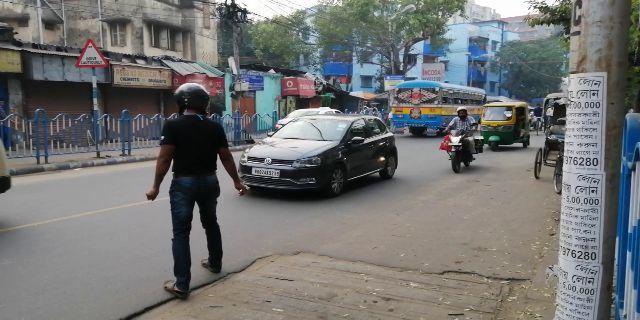Autorickshaw: (483, 102, 533, 145)
Bus: (391, 84, 444, 131)
Car: (242, 119, 400, 191)
Motorbike: (448, 106, 473, 173)
